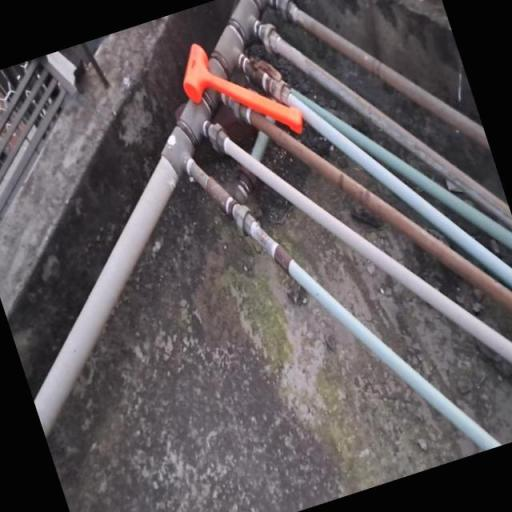mallet: (173, 20, 303, 162)
